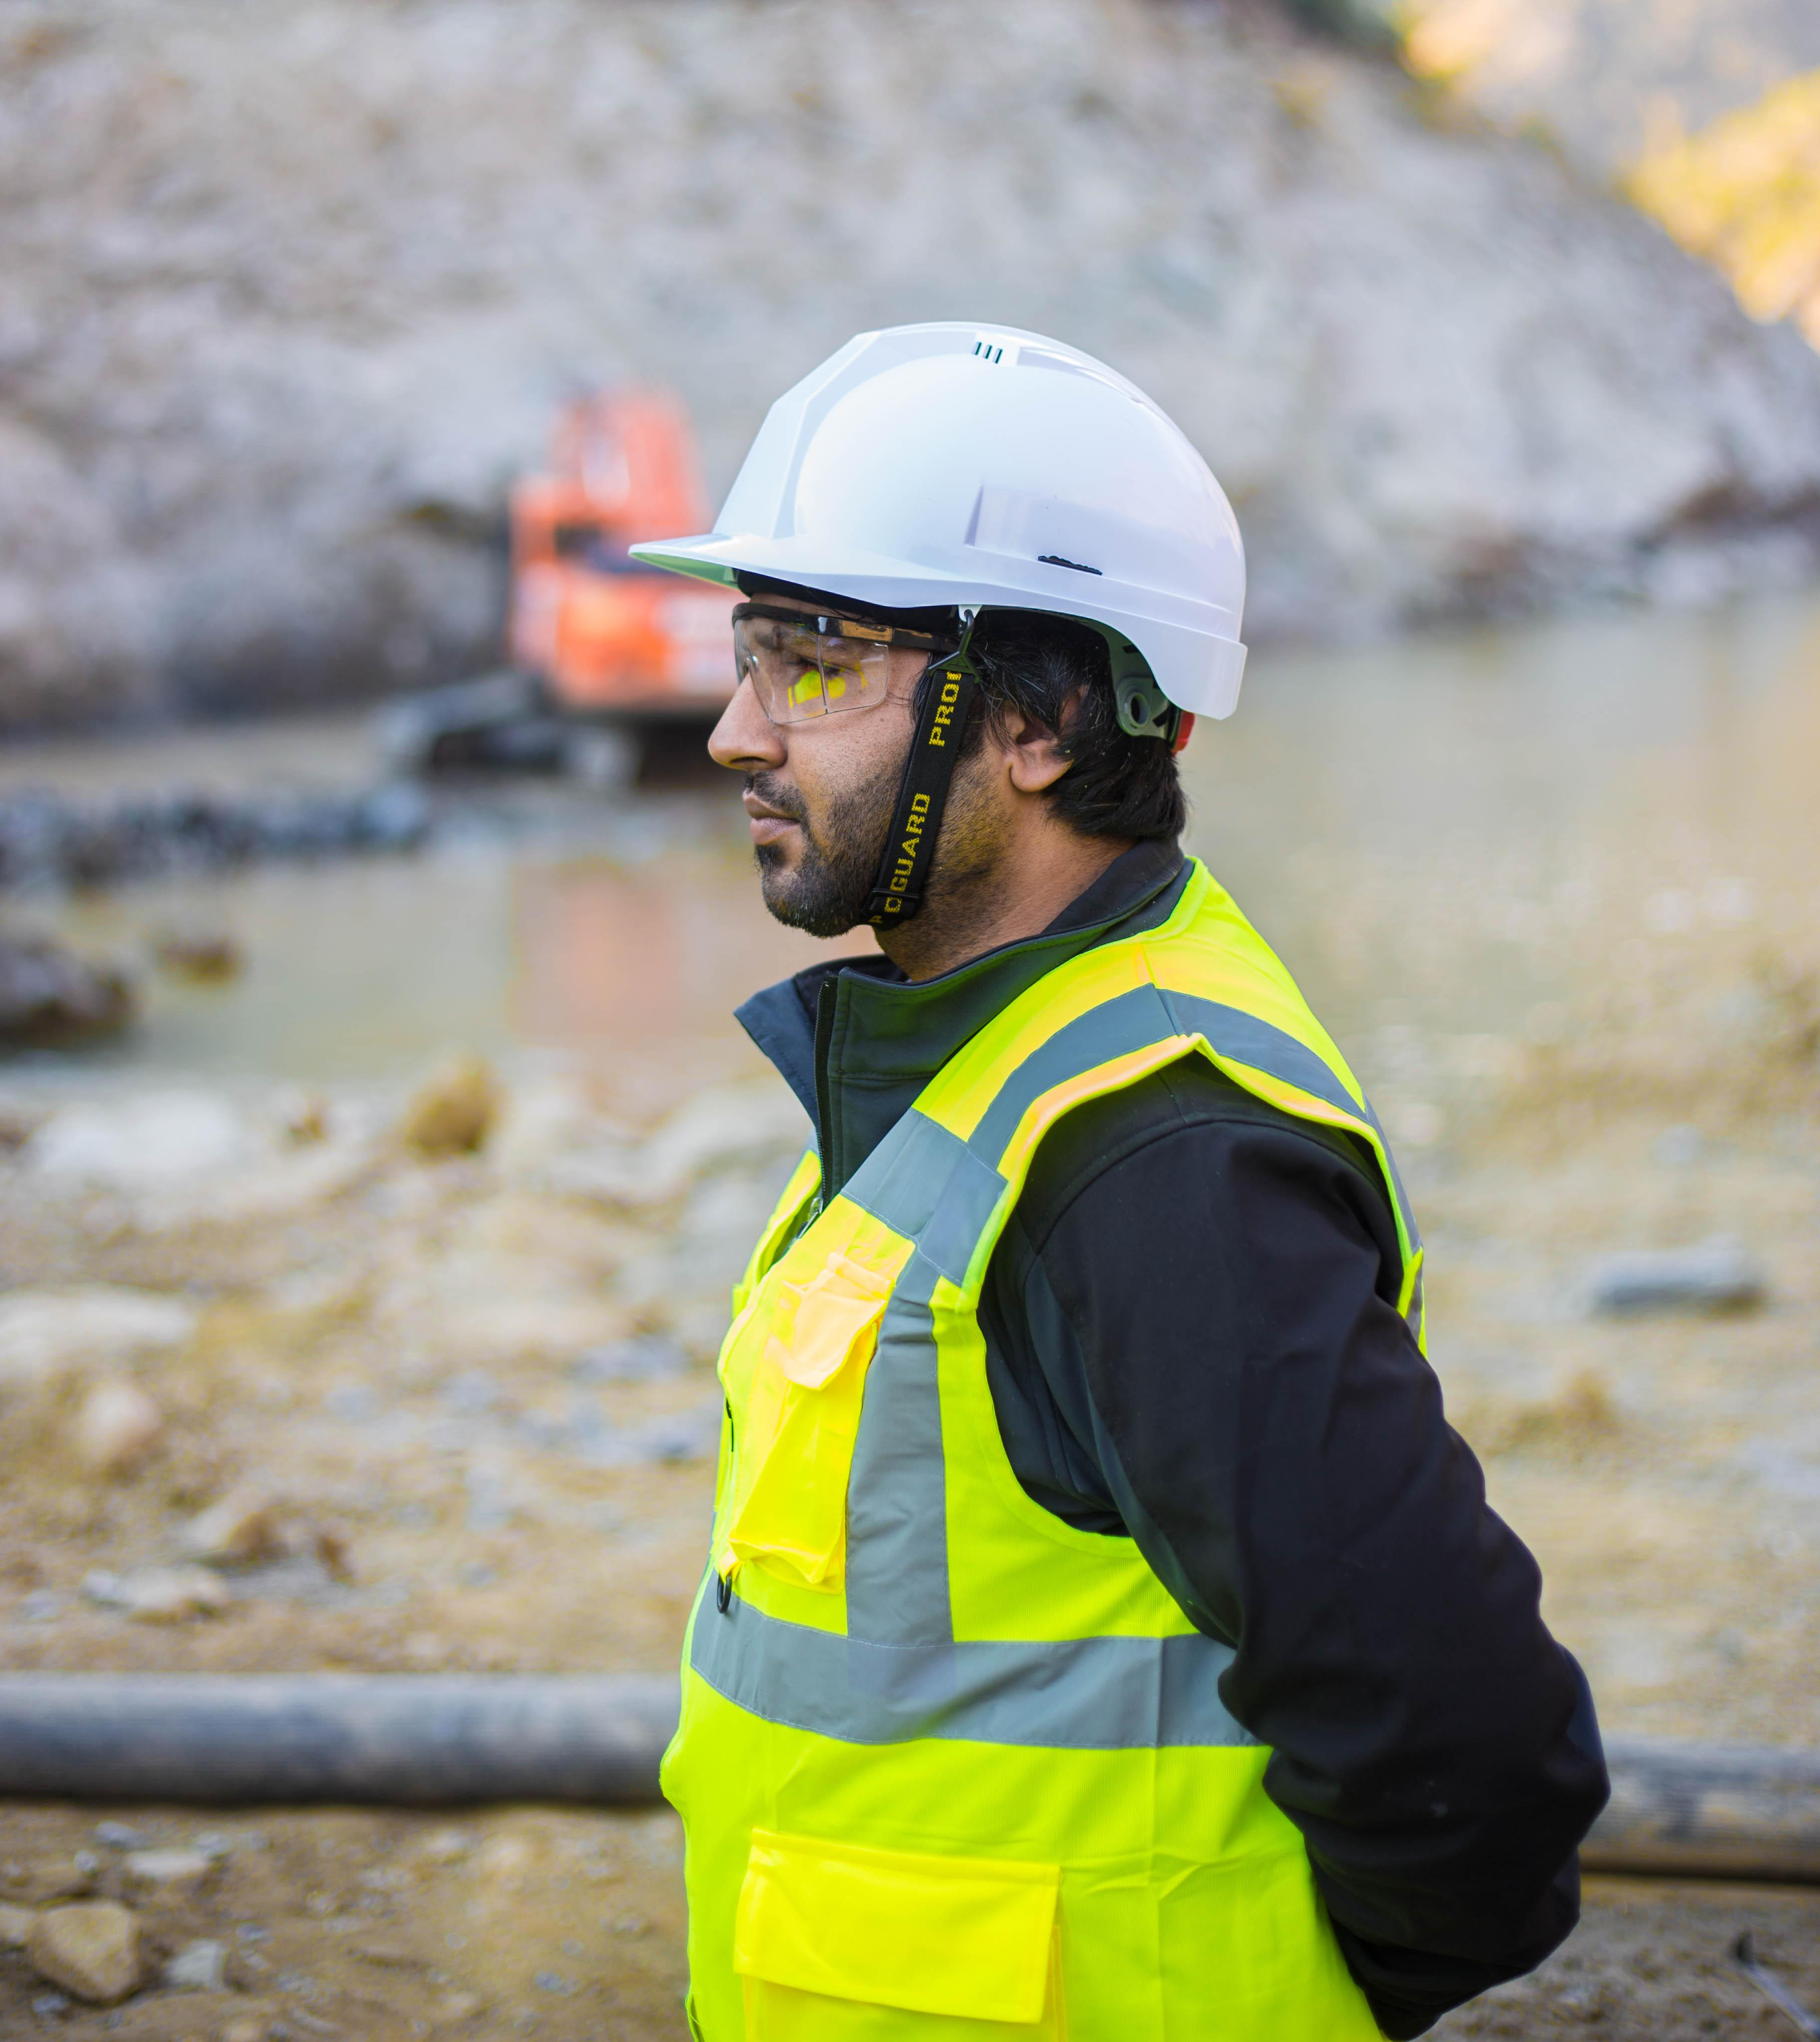hardhat: (638, 315, 1256, 701)
worker: (638, 323, 1620, 2042)
